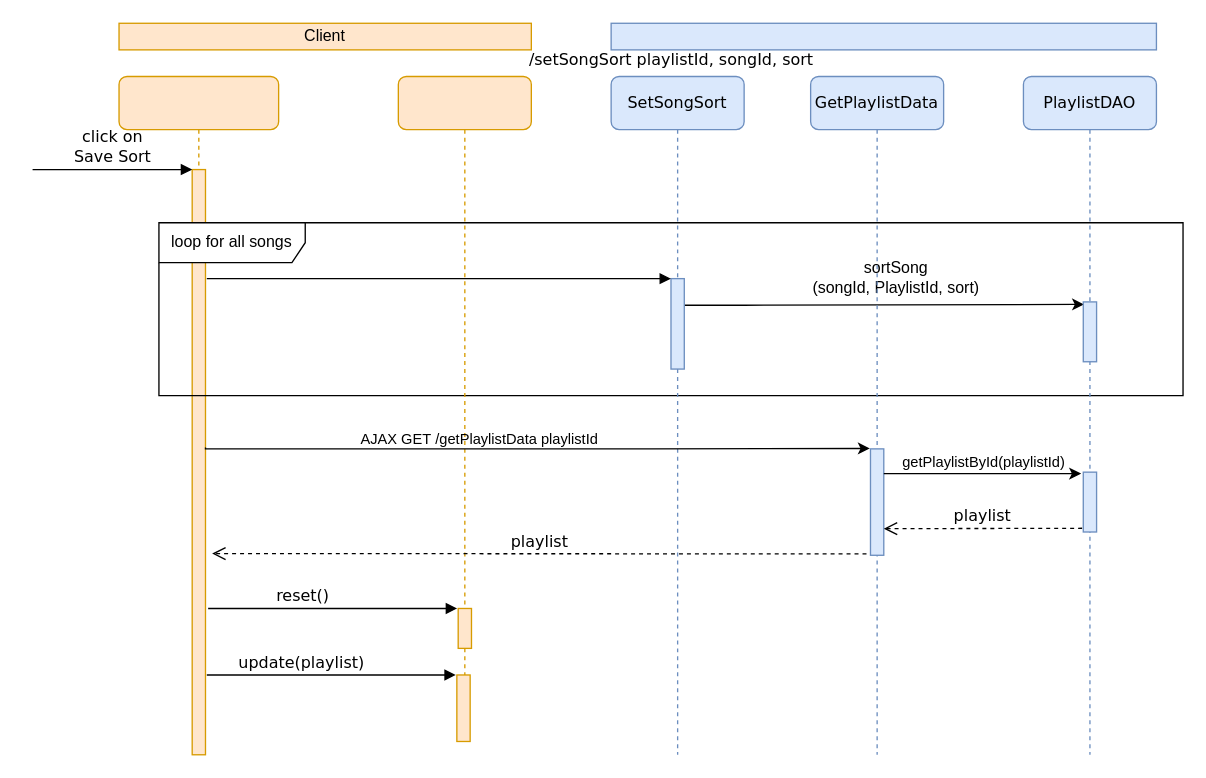
Image size: 1206x778. Some labels were removed from this diagram. The shapes that lost their labels are listed below. From the top down, each one's box as (x1, y1, x2, y2) in pixels, then its label:
(610, 22, 1156, 50): Server
(118, 75, 279, 755): SortPlaylist
(397, 75, 531, 741): ShowSongs
